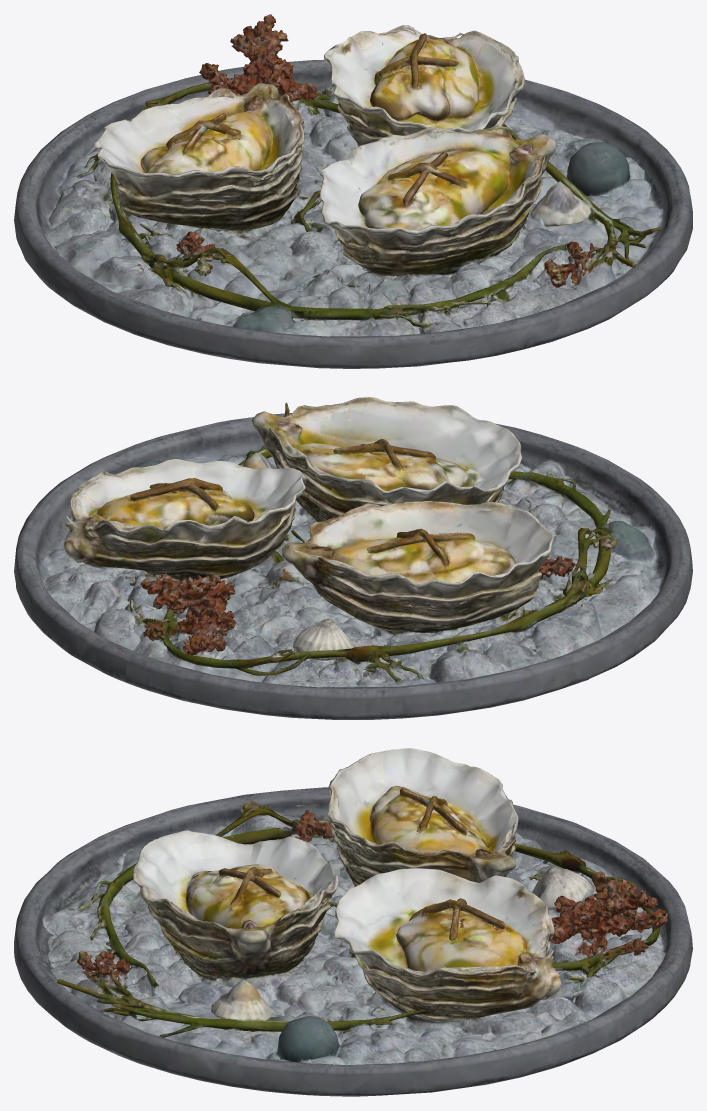
File: huitres-mobile.glb
The picture shows the model from 3 angles, top to bottom: view 1: azimuth 30°, elevation 25°; view 2: azimuth 150°, elevation 25°; view 3: azimuth 270°, elevation 25°; orthographic projection.
Bounding box in the file's own units: 1.9 × 0.4812 × 1.9.
1 material, 1 textured.
